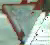Give way: (1, 1, 44, 42)
